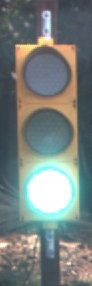Green: (4, 32, 92, 240)
